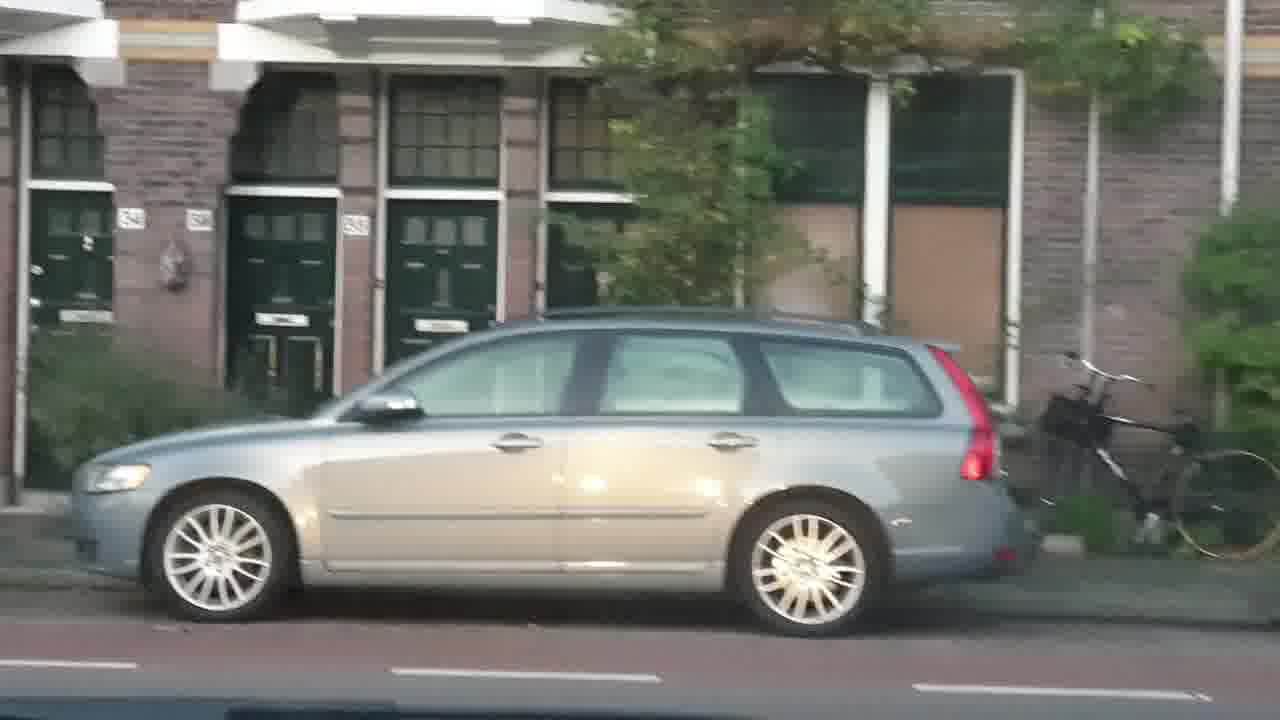car: (34, 313, 1016, 636)
